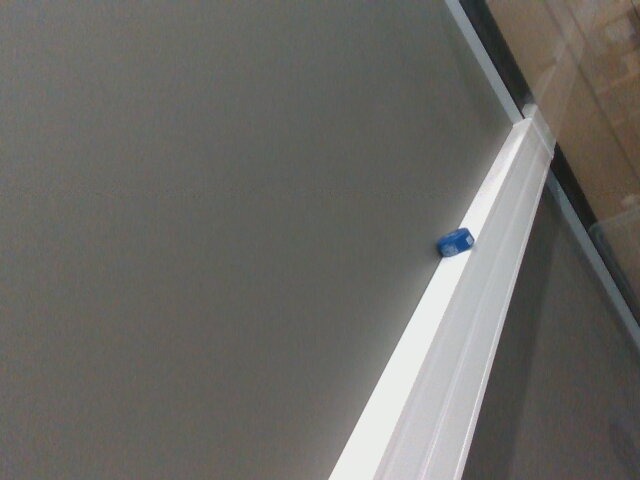alfa: (434, 225, 480, 257)
